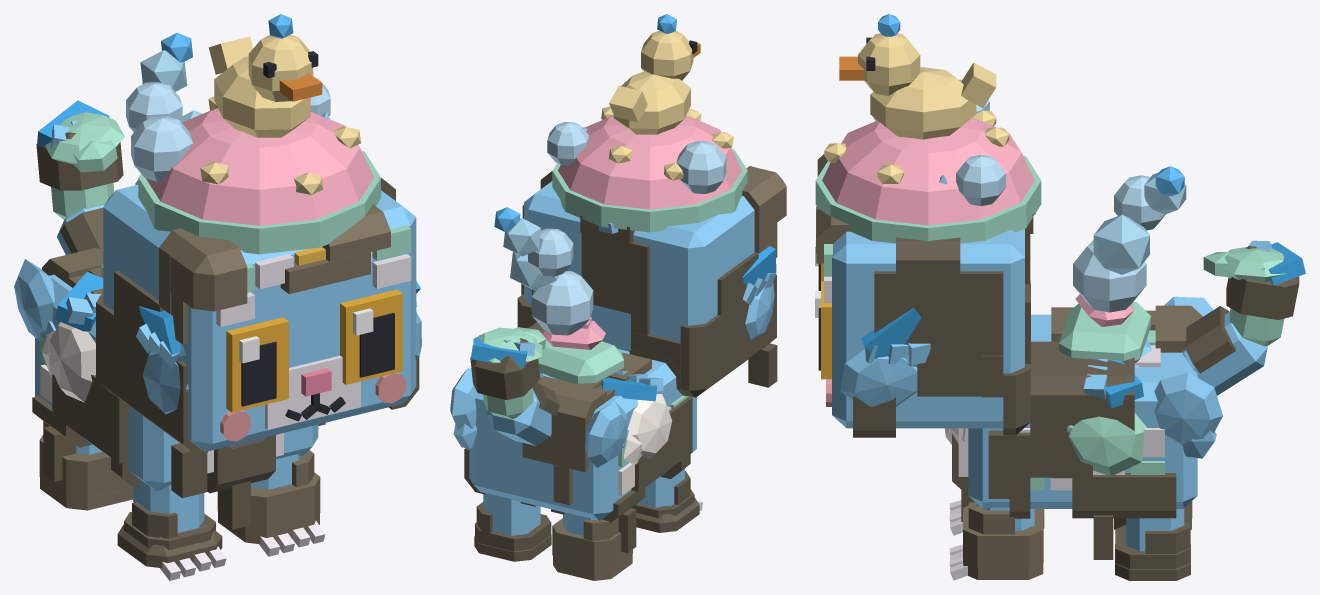
The model's file is CleanACat_Cat_Bathtile_Dirty.fbx.
3 views of the same model, side by side, from view 1: azimuth 30°, elevation 25°; view 2: azimuth 150°, elevation 25°; view 3: azimuth 270°, elevation 25° (orthographic). The views are drawn at different scales.
Visible parts, largest first — view 1: CleanACat_Cat_Bathtile_Dirty_Prop, CleanACat_Cat_Bathtile_Dirty_Head, CleanACat_Cat_Bathtile_Dirty_Mud01, CleanACat_Cat_Bathtile_Dirty_Mud06, CleanACat_Cat_Bathtile_Dirty_Body, CleanACat_Cat_Bathtile_Dirty_Eye2, CleanACat_Cat_Bathtile_Dirty_Eye1, CleanACat_Cat_Bathtile_Dirty_Mud15, CleanACat_Cat_Bathtile_Dirty_Mud10, CleanACat_Cat_Bathtile_Dirty_Mud16, CleanACat_Cat_Bathtile_Dirty_Mud03, CleanACat_Cat_Bathtile_Dirty_Mud07 (+19 smaller); view 2: CleanACat_Cat_Bathtile_Dirty_Prop, CleanACat_Cat_Bathtile_Dirty_Head, CleanACat_Cat_Bathtile_Dirty_Body, CleanACat_Cat_Bathtile_Dirty_Mud01, CleanACat_Cat_Bathtile_Dirty_Prop2, CleanACat_Cat_Bathtile_Dirty_Mud04, CleanACat_Cat_Bathtile_Dirty_Mud09, CleanACat_Cat_Bathtile_Dirty_Prop2_Glass, CleanACat_Cat_Bathtile_Dirty_Mud18, CleanACat_Cat_Bathtile_Dirty_Prop_Glass, CleanACat_Cat_Bathtile_Dirty_Mud10, CleanACat_Cat_Bathtile_Dirty_Mud06 (+19 smaller); view 3: CleanACat_Cat_Bathtile_Dirty_Prop, CleanACat_Cat_Bathtile_Dirty_Mud02, CleanACat_Cat_Bathtile_Dirty_Head, CleanACat_Cat_Bathtile_Dirty_Body, CleanACat_Cat_Bathtile_Dirty_Mud08, CleanACat_Cat_Bathtile_Dirty_Prop2, CleanACat_Cat_Bathtile_Dirty_Mud11, CleanACat_Cat_Bathtile_Dirty_Mud15, CleanACat_Cat_Bathtile_Dirty_Prop2_Glass, CleanACat_Cat_Bathtile_Dirty_Fluff09, CleanACat_Cat_Bathtile_Dirty_Tail, CleanACat_Cat_Bathtile_Dirty_Mud17 (+17 smaller).
Boxes of the visible parts, x1,y1,x2,y2 form: CleanACat_Cat_Bathtile_Dirty_Prop: (138,34,380,254); CleanACat_Cat_Bathtile_Dirty_Head: (103,184,416,451); CleanACat_Cat_Bathtile_Dirty_Mud01: (96,271,207,498); CleanACat_Cat_Bathtile_Dirty_Mud06: (159,228,247,344); CleanACat_Cat_Bathtile_Dirty_Body: (35,274,318,490); CleanACat_Cat_Bathtile_Dirty_Eye2: (226,317,288,412); CleanACat_Cat_Bathtile_Dirty_Eye1: (340,289,402,384); CleanACat_Cat_Bathtile_Dirty_Mud15: (217,450,320,544); CleanACat_Cat_Bathtile_Dirty_Mud10: (52,374,139,488); CleanACat_Cat_Bathtile_Dirty_Mud16: (117,502,222,567); CleanACat_Cat_Bathtile_Dirty_Mud03: (280,204,390,294); CleanACat_Cat_Bathtile_Dirty_Mud07: (207,435,275,529); CleanACat_Cat_Bathtile_Dirty_Prop: (552,30,747,232); CleanACat_Cat_Bathtile_Dirty_Head: (524,181,754,351); CleanACat_Cat_Bathtile_Dirty_Body: (469,349,696,520); CleanACat_Cat_Bathtile_Dirty_Mud01: (631,252,777,397); CleanACat_Cat_Bathtile_Dirty_Prop2: (503,218,623,383); CleanACat_Cat_Bathtile_Dirty_Mud04: (580,215,649,335); CleanACat_Cat_Bathtile_Dirty_Mud09: (522,376,609,505); CleanACat_Cat_Bathtile_Dirty_Prop2_Glass: (528,228,593,335); CleanACat_Cat_Bathtile_Dirty_Mud18: (552,517,632,580); CleanACat_Cat_Bathtile_Dirty_Prop_Glass: (547,122,726,193); CleanACat_Cat_Bathtile_Dirty_Mud10: (629,349,692,491); CleanACat_Cat_Bathtile_Dirty_Mud06: (742,166,786,257); CleanACat_Cat_Bathtile_Dirty_Prop: (815,33,1041,243); CleanACat_Cat_Bathtile_Dirty_Mud02: (853,237,1003,437); CleanACat_Cat_Bathtile_Dirty_Head: (824,229,1024,428); CleanACat_Cat_Bathtile_Dirty_Body: (958,314,1197,508); CleanACat_Cat_Bathtile_Dirty_Mud08: (1030,341,1134,478); CleanACat_Cat_Bathtile_Dirty_Prop2: (1059,172,1186,362); CleanACat_Cat_Bathtile_Dirty_Mud11: (1072,473,1176,559); CleanACat_Cat_Bathtile_Dirty_Mud15: (963,502,1043,579); CleanACat_Cat_Bathtile_Dirty_Prop2_Glass: (1073,175,1165,312); CleanACat_Cat_Bathtile_Dirty_Fluff09: (1154,372,1222,458); CleanACat_Cat_Bathtile_Dirty_Tail: (1183,308,1284,395); CleanACat_Cat_Bathtile_Dirty_Mud17: (1115,522,1190,580).
Size of the model in its own units: 1.13 by 2.44 by 2.03.
Materials: 1 (1 with a texture image).
